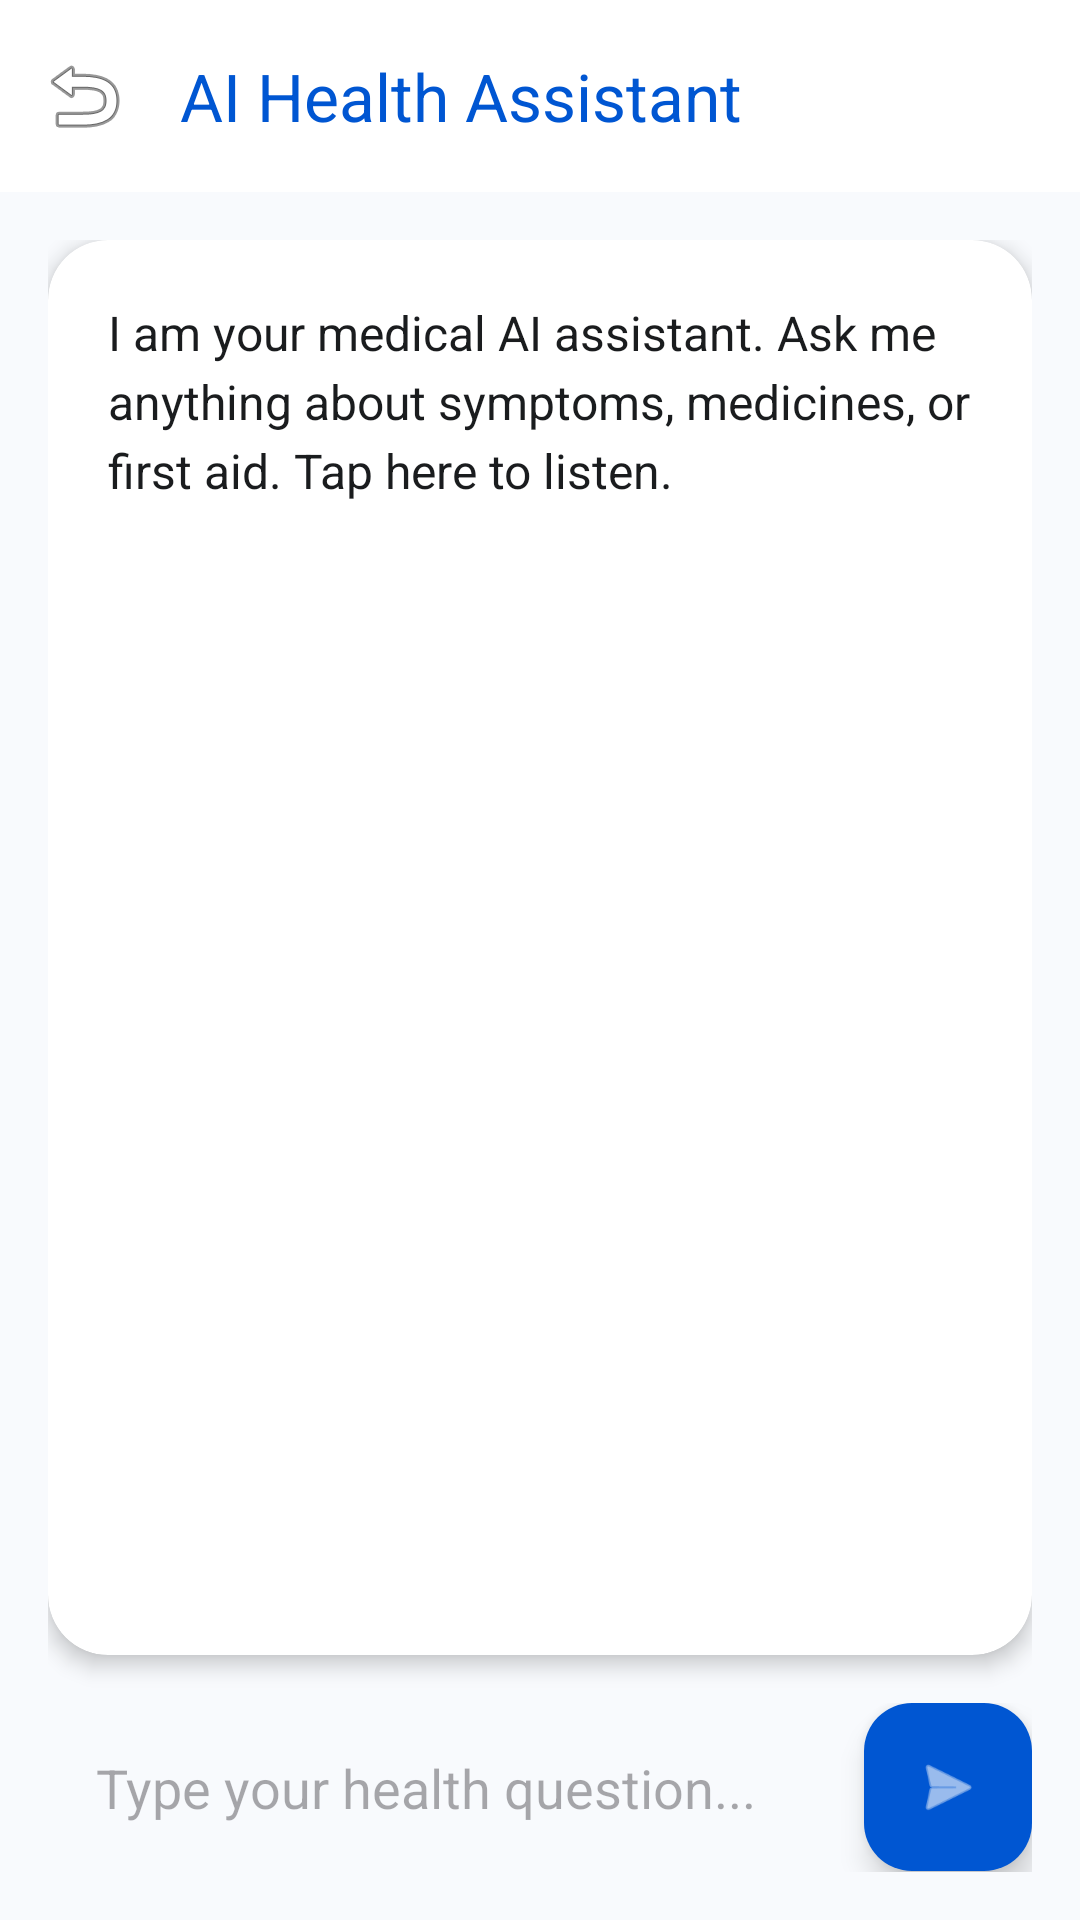

Point at icon controls on the screen. Image size 1080*1920, points as point (x, y).
Send: point (948, 1787)
